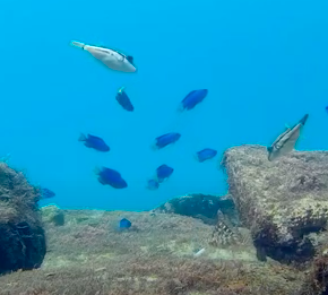hugu: (69, 35, 145, 75), (263, 109, 309, 162)
smallfish: (71, 126, 116, 158), (173, 82, 214, 116), (87, 162, 132, 192), (146, 129, 188, 155)
